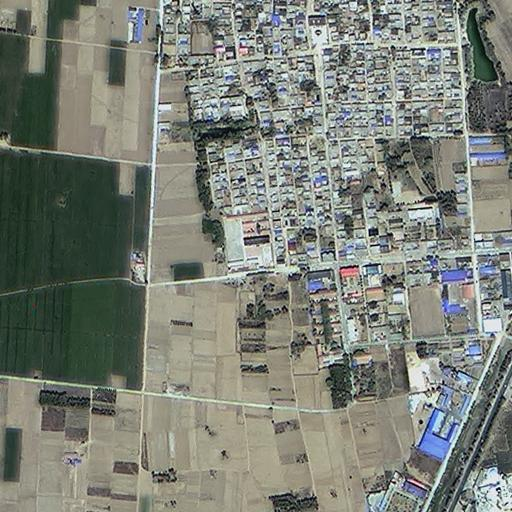school: (220, 210, 275, 268)
